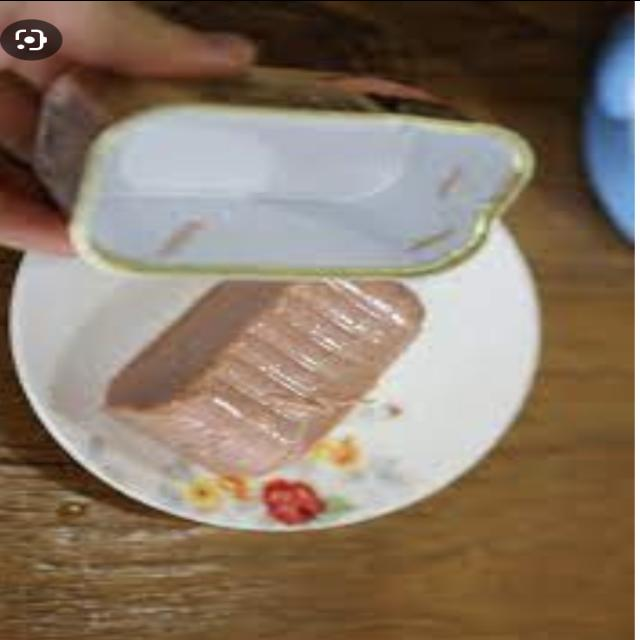can: (31, 67, 566, 283)
